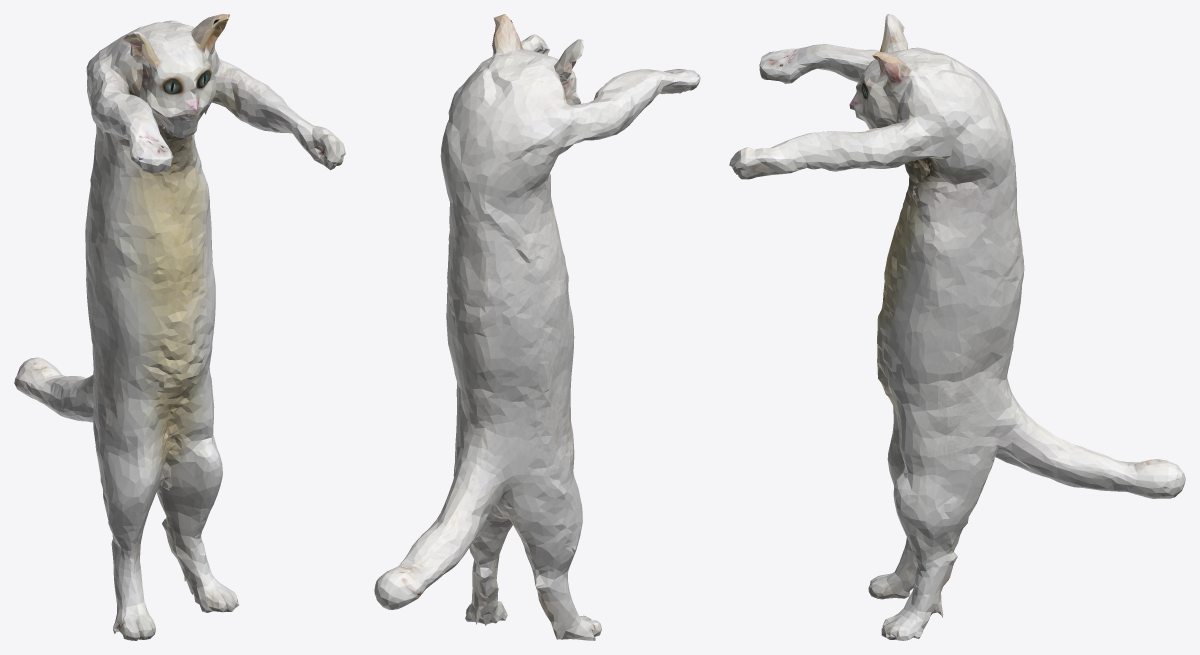
The model's file is Stretchy_Cat_0626065243_texture.fbx.
3 views of the same model, side by side, from view 1: azimuth 30°, elevation 25°; view 2: azimuth 150°, elevation 25°; view 3: azimuth 270°, elevation 25° (orthographic). The views are drawn at different scales.
Parts seen in each view (by area): view 1: temp; view 2: temp; view 3: temp.
Boxes of the visible parts, <box> form: temp: <box>14,14,345,640</box>; temp: <box>374,14,700,640</box>; temp: <box>729,14,1185,640</box>.
Size of the model in its own units: 67.19 by 199 by 142.
1 material, 1 textured.
